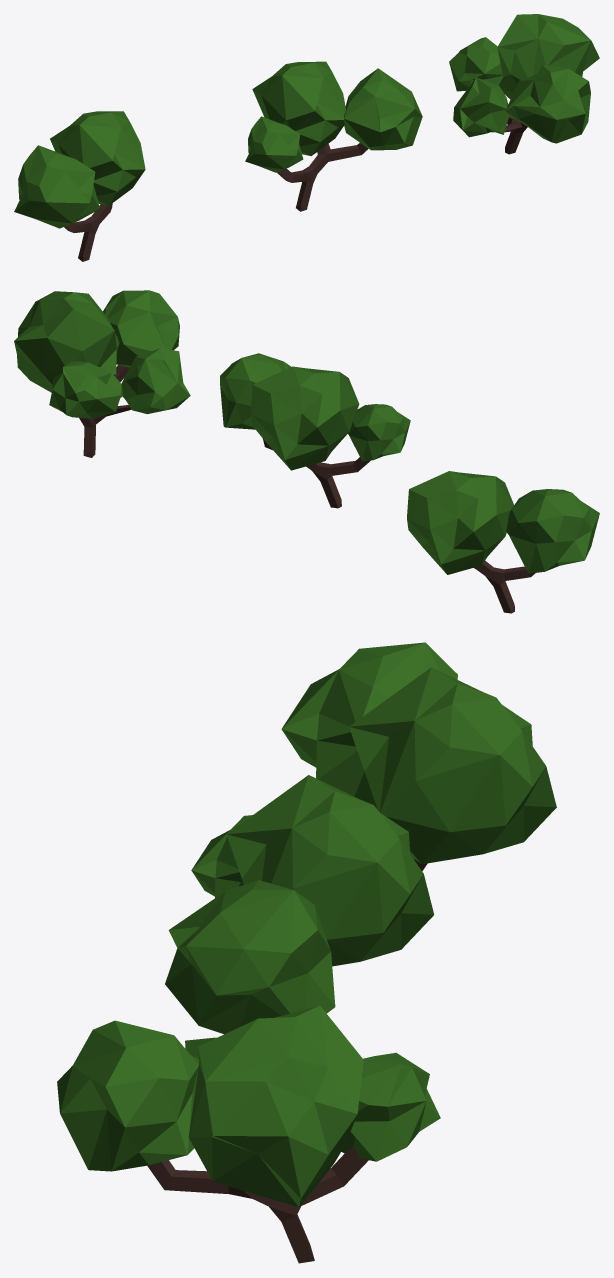
File: bushes.fbx
The picture shows the model from 3 angles, top to bottom: view 1: azimuth 30°, elevation 25°; view 2: azimuth 150°, elevation 25°; view 3: azimuth 270°, elevation 25°; orthographic projection. The views are drawn at different scales.
Parts seen in each view (by area): view 1: Bush2, Bush1, Bush3; view 2: Bush2, Bush3, Bush1; view 3: Bush2, Bush1, Bush3.
Part boxes in pixels (bbox=[...]): Bush2: bbox=[449, 14, 599, 154]; Bush1: bbox=[245, 61, 422, 211]; Bush3: bbox=[14, 111, 145, 261]; Bush2: bbox=[14, 290, 190, 457]; Bush3: bbox=[407, 471, 599, 613]; Bush1: bbox=[220, 353, 410, 508]; Bush2: bbox=[57, 1005, 440, 1263]; Bush1: bbox=[165, 775, 434, 1034]; Bush3: bbox=[281, 642, 556, 871].
Bounding box in the file's own units: 5.96 × 1.69 × 2.39.
